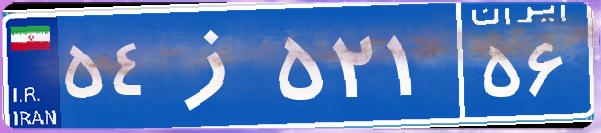1: (385, 28, 445, 110)
2: (330, 28, 385, 110)
4: (110, 28, 158, 105)
5: (273, 28, 330, 110), (57, 26, 110, 107), (475, 38, 525, 113)
6: (525, 38, 570, 115)
ز: (158, 15, 273, 115)
